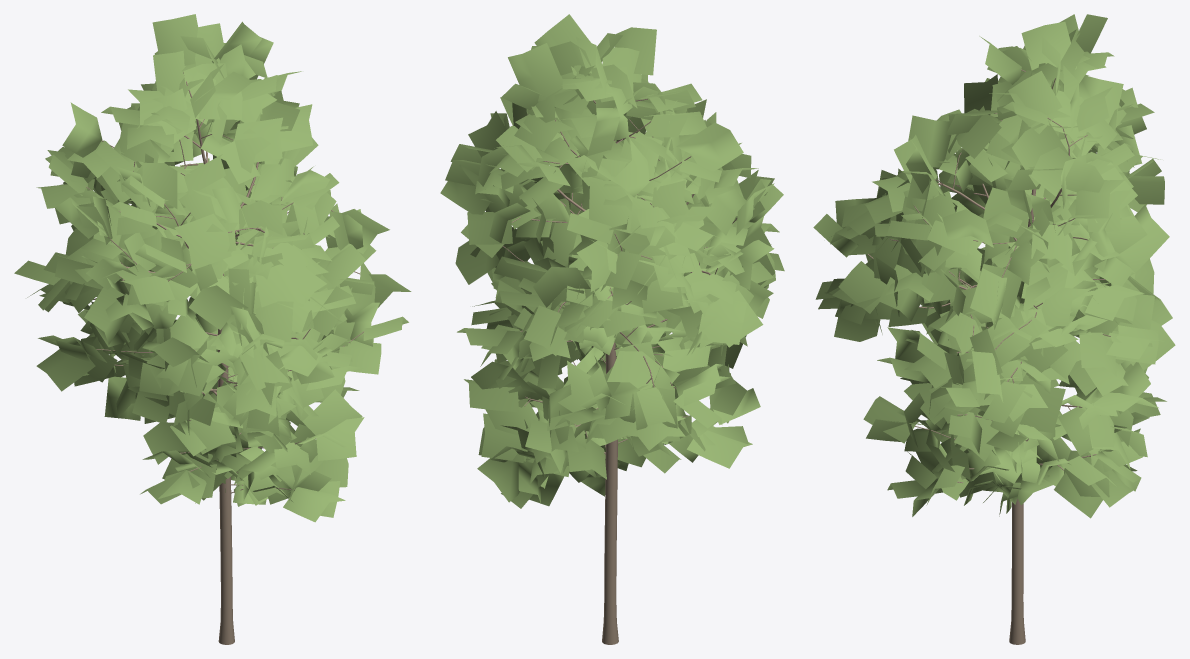
File: Pine_11_young_lod0.glb
The picture shows the model from 3 angles, left to right: view 1: azimuth 30°, elevation 25°; view 2: azimuth 150°, elevation 25°; view 3: azimuth 270°, elevation 25°; orthographic projection. The views are drawn at different scales.
Parts seen in each view (by area): view 1: Pine_11_young_lod0; view 2: Pine_11_young_lod0; view 3: Pine_11_young_lod0.
Part boxes in pixels (x1=…): Pine_11_young_lod0: x1=14, y1=14, x2=411, y2=644; Pine_11_young_lod0: x1=440, y1=14, x2=784, y2=644; Pine_11_young_lod0: x1=813, y1=14, x2=1175, y2=644.
Bounding box in the file's own units: 6 × 10.33 × 5.48.
